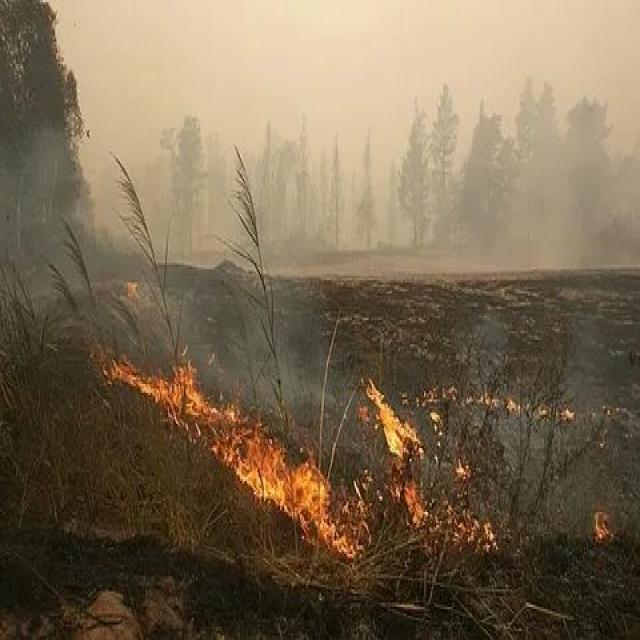Fire: (108, 342, 456, 566)
